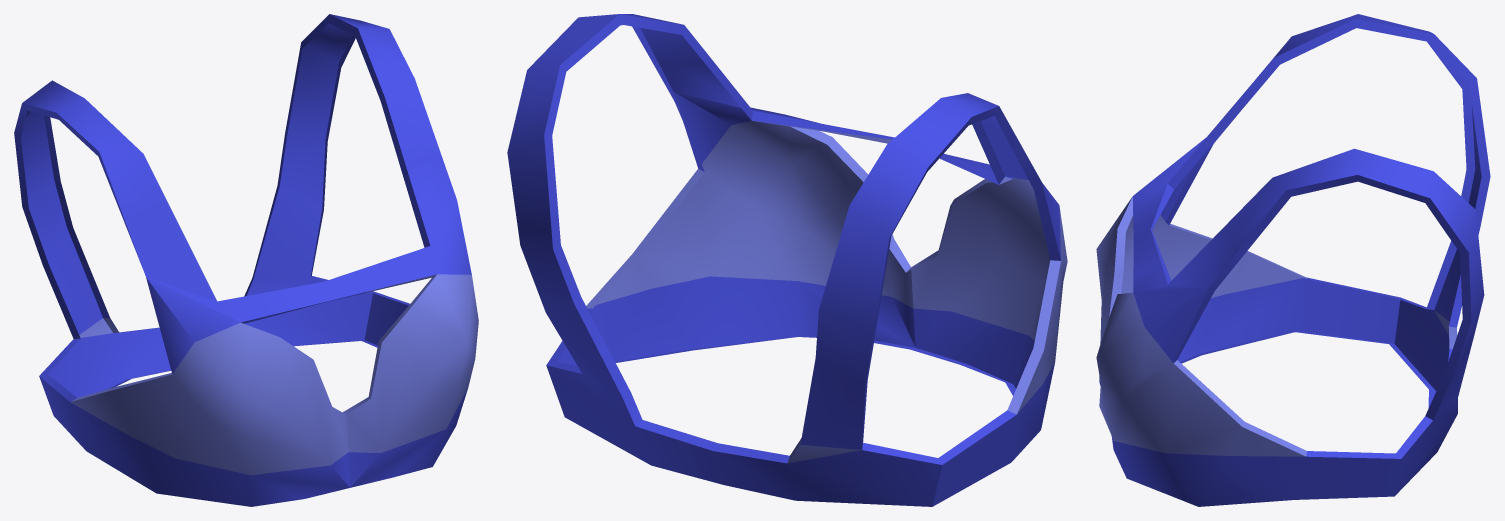
Rendered from Bra02.001.fbx.
3 views of the same model, side by side, from view 1: azimuth 30°, elevation 25°; view 2: azimuth 150°, elevation 25°; view 3: azimuth 270°, elevation 25° (orthographic). The views are drawn at different scales.
Parts seen in each view (by area): view 1: Bra02.001; view 2: Bra02.001; view 3: Bra02.001.
Boxes of the visible parts, box(x1,y1,x2,y2) form: Bra02.001: box(14, 14, 478, 506); Bra02.001: box(507, 14, 1067, 506); Bra02.001: box(1096, 14, 1490, 506).
Bounding box in the file's own units: 29.25 × 26.46 × 27.11.
